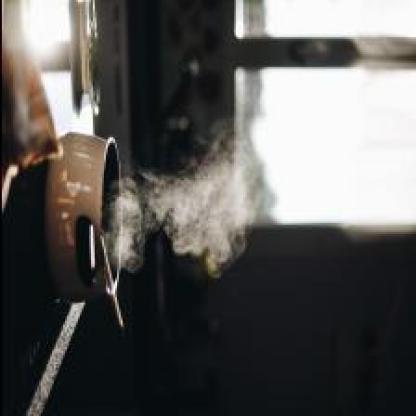Smoke: (120, 163, 253, 257)
